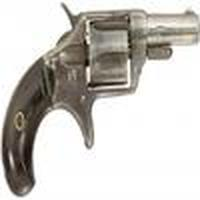gun: (6, 1, 196, 192)
